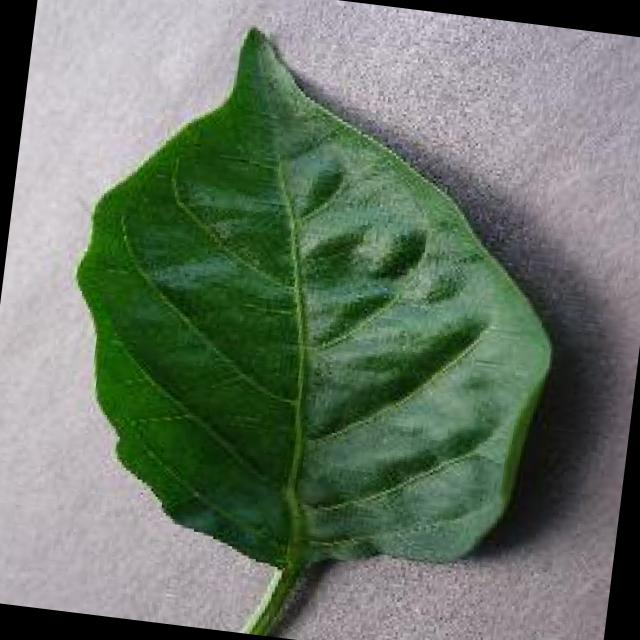Chilli_Healthy: (30, 4, 588, 640)
